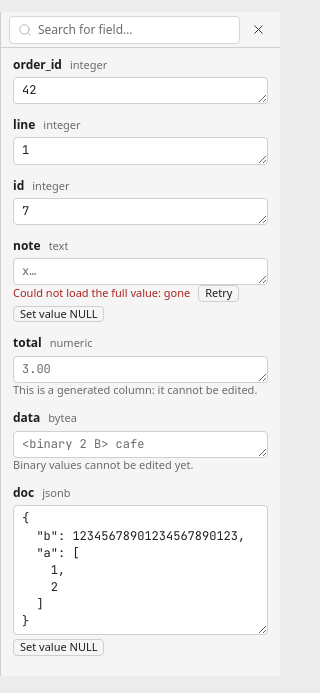
Test: a failed full-value load can be retried
This screenshot has width=320, height=693.
Click the button "Retry".
click(219, 293)  # box 198,285 -> 239,302
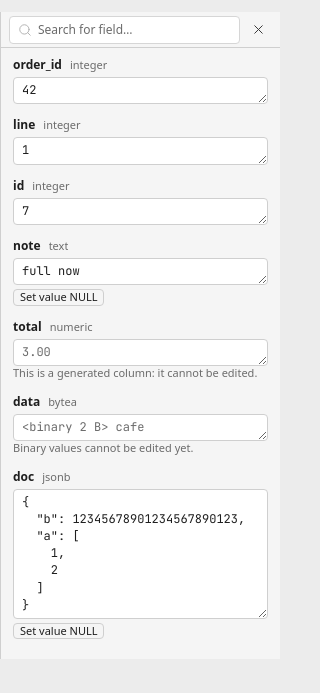
Check: the text box labelled "note" holds "full now", box 13,258 -> 268,285
